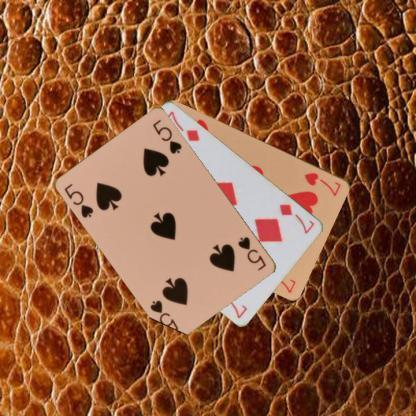5s: (62, 180, 96, 220), (235, 234, 268, 272)
7d: (276, 201, 316, 235)
7h: (302, 170, 342, 198)
